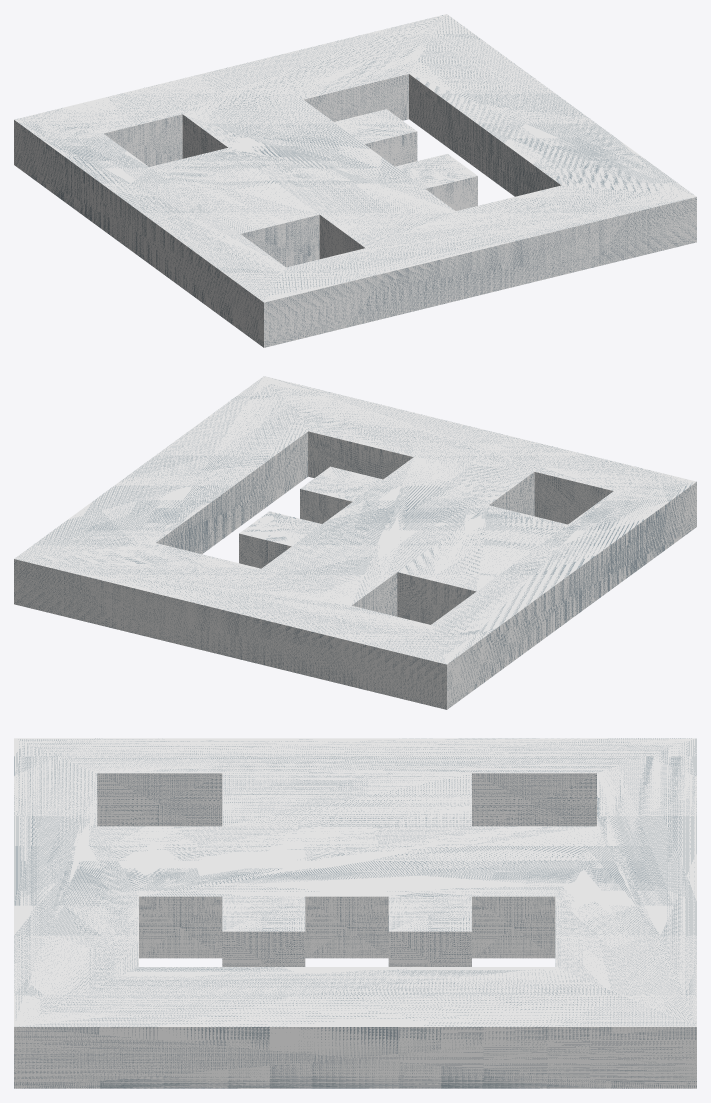
3 views of the same model, one above another, from view 1: azimuth 30°, elevation 25°; view 2: azimuth 150°, elevation 25°; view 3: azimuth 270°, elevation 25° (orthographic). The views are drawn at different scales.
Visible parts, largest first — view 1: Model; view 2: Model; view 3: Model.
Part boxes in pixels (x1,y1,x2,y2): Model: [14, 14, 696, 347]; Model: [14, 376, 696, 709]; Model: [14, 738, 696, 1088].
Size of the model in its own units: 5 by 0.5 by 5.
